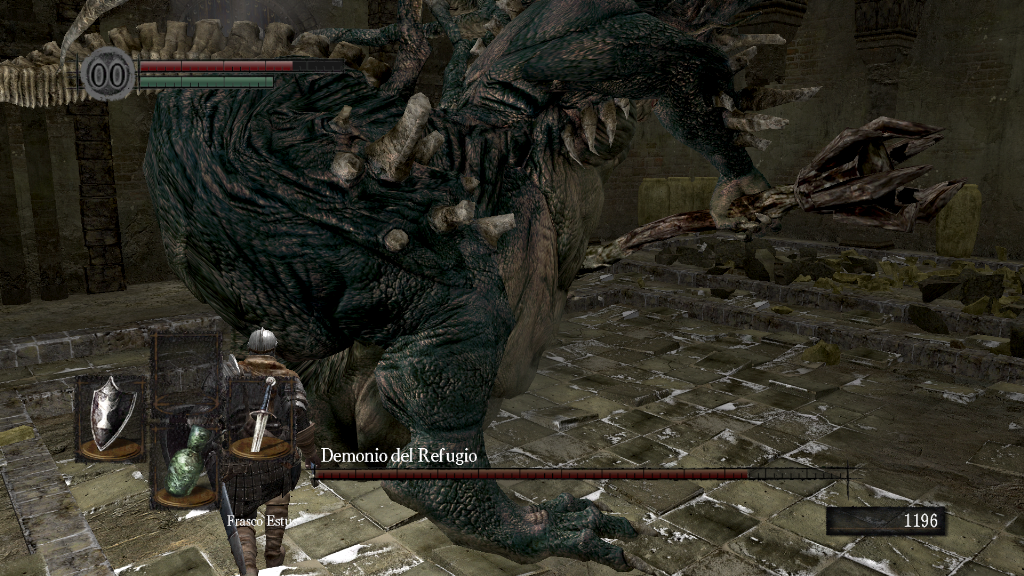asylumDemon: (1, 2, 967, 576)
bossHP: (314, 469, 847, 479)
health: (138, 58, 343, 71)
humanity: (80, 45, 136, 102)
player: (160, 326, 325, 576)
souls: (825, 506, 945, 536)
stamina: (138, 74, 274, 88)
